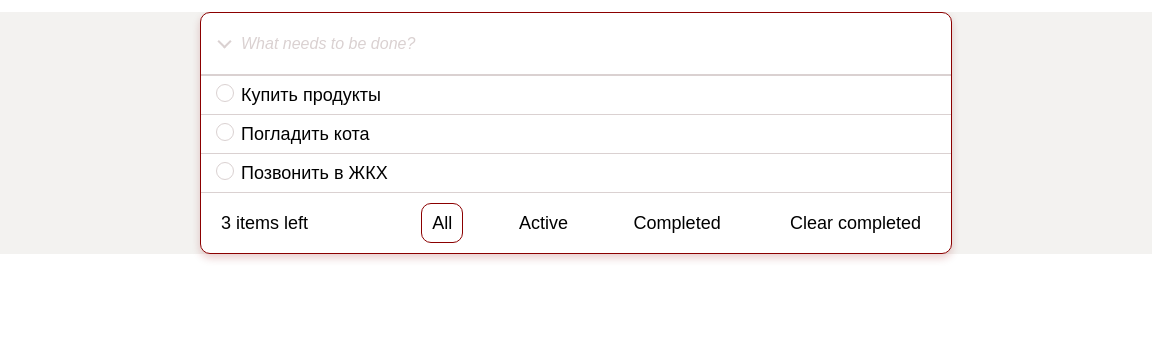
Scenario: filter active task
The image size is (1152, 356).
Type "Задача 1" into the field with placeholder "What needs to be done?" at (594, 44), box [236,13,951,74]
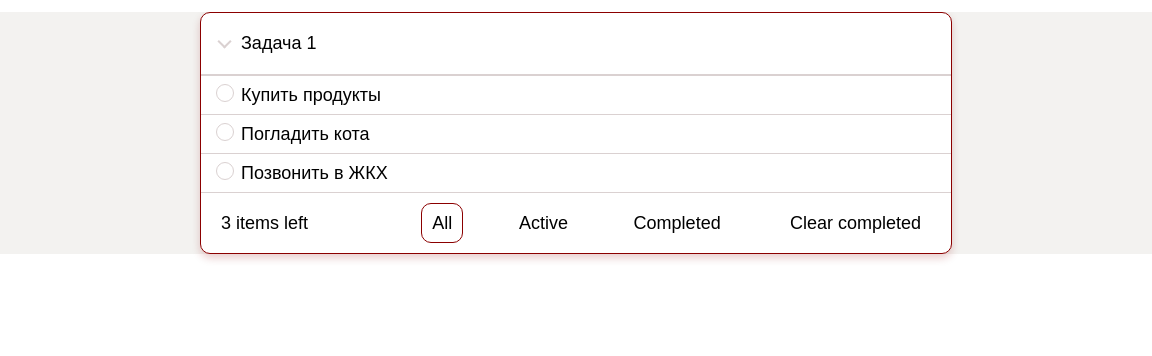
Submit the form with placeholder "what needs to be done", box [201,13,951,193]
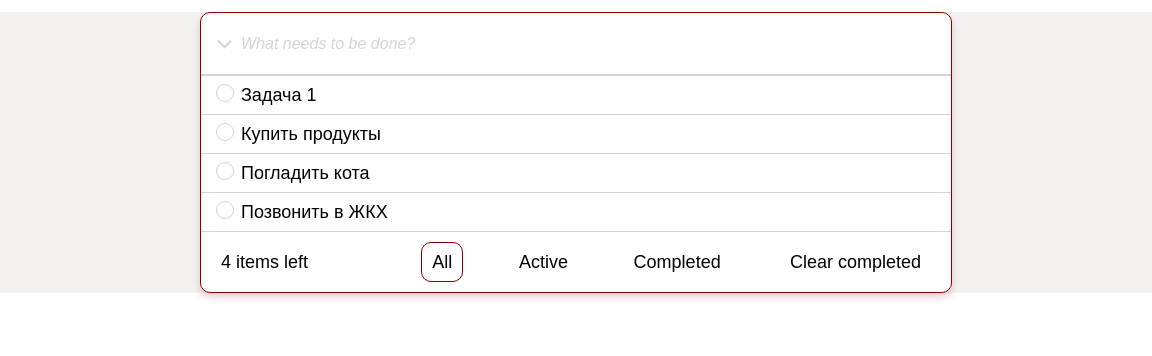
Type "Задача 2" into the field with placeholder "What needs to be done?" at (594, 44), box [236,13,951,74]
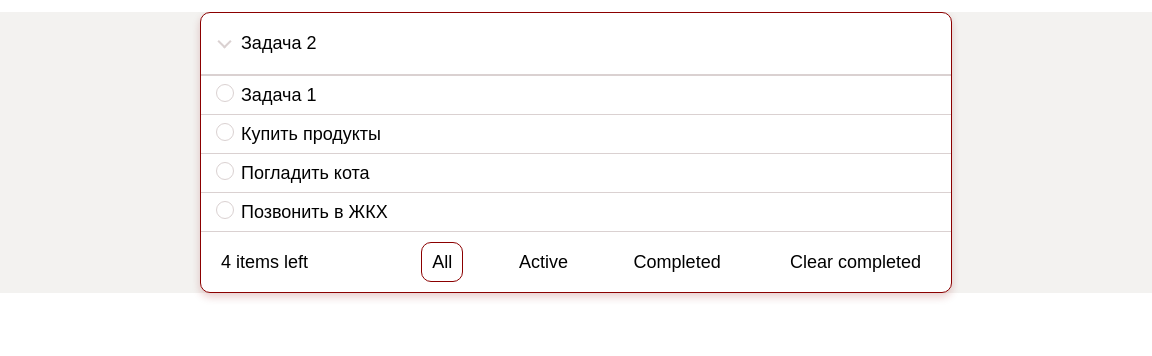
Submit the form with placeholder "what needs to be done", box [201,13,951,232]
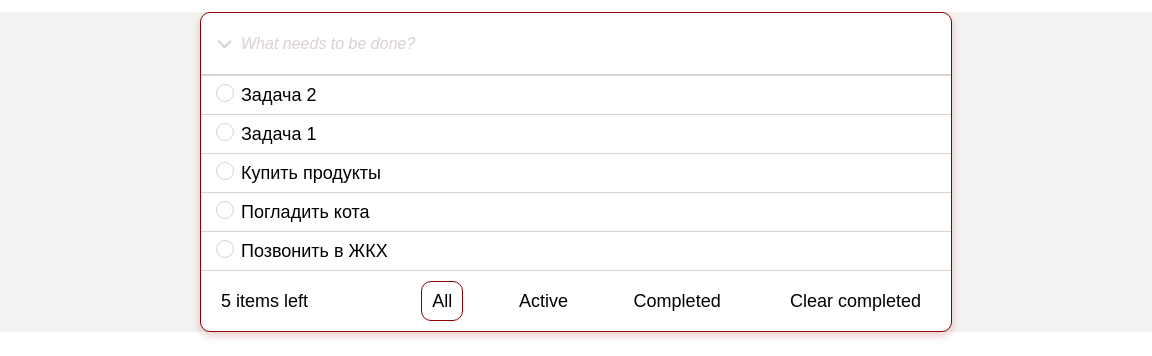
Click the list item "Задача 1" at (576, 134), box [201,115,951,154]
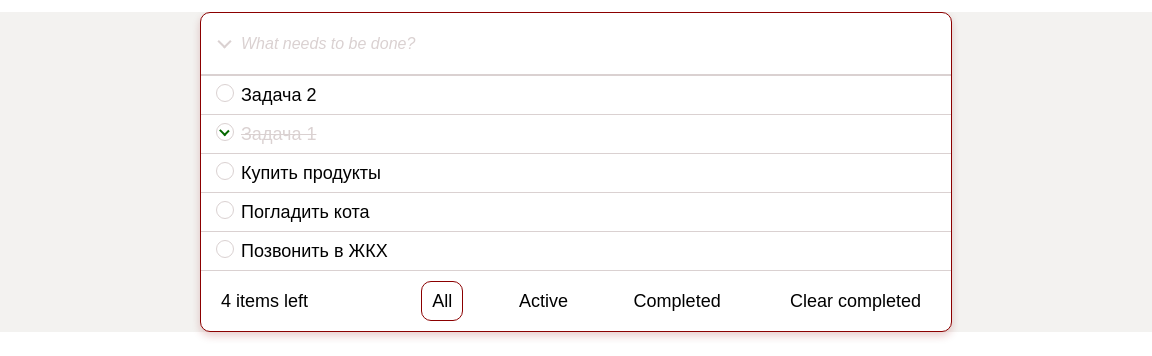
Click the button "Active" at (544, 301), box [509,282,578,320]
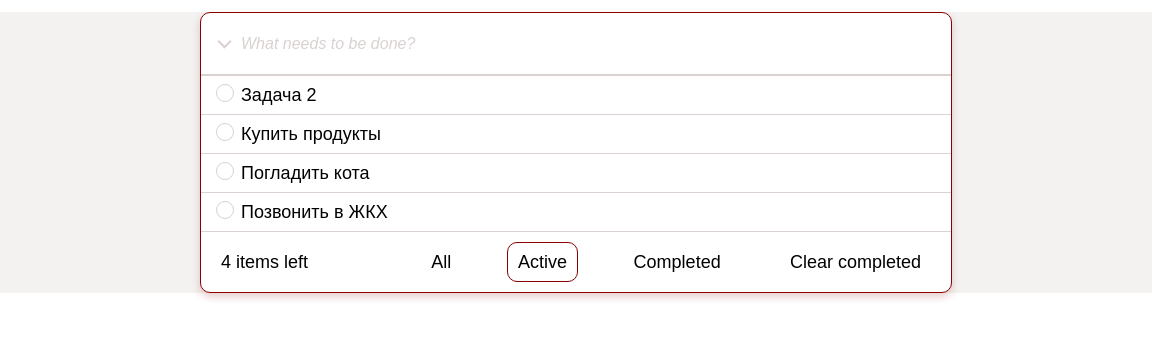
Now the list item "Задача 2" is shown, box [201,76,951,115]
Now the list item "Задача 1" is gone
